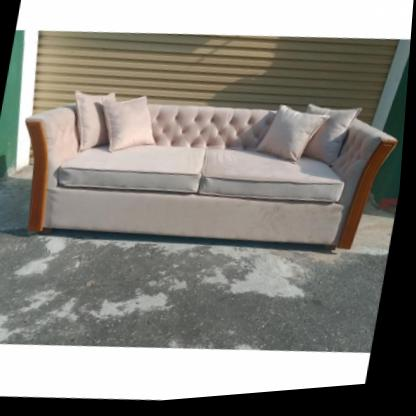Sofa: (4, 68, 408, 283)
